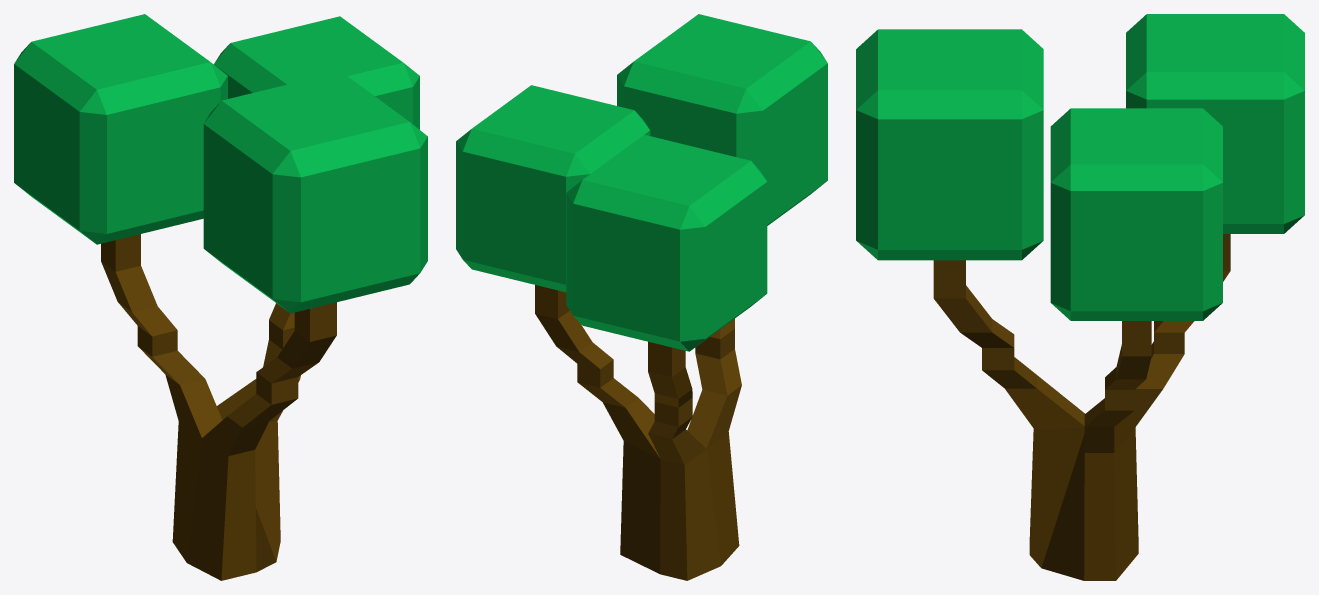
File: Tree oak.fbx
The picture shows the model from 3 angles, left to right: view 1: azimuth 30°, elevation 25°; view 2: azimuth 150°, elevation 25°; view 3: azimuth 270°, elevation 25°; orthographic projection. The views are drawn at different scales.
Visible parts, largest first — view 1: Oak; view 2: Oak; view 3: Oak.
Boxes of the visible parts, x1,y1,x2,y2 form: Oak: (14, 14, 427, 580); Oak: (456, 14, 827, 580); Oak: (856, 14, 1304, 580).
Bounding box in the file's own units: 391 × 595 × 478.
